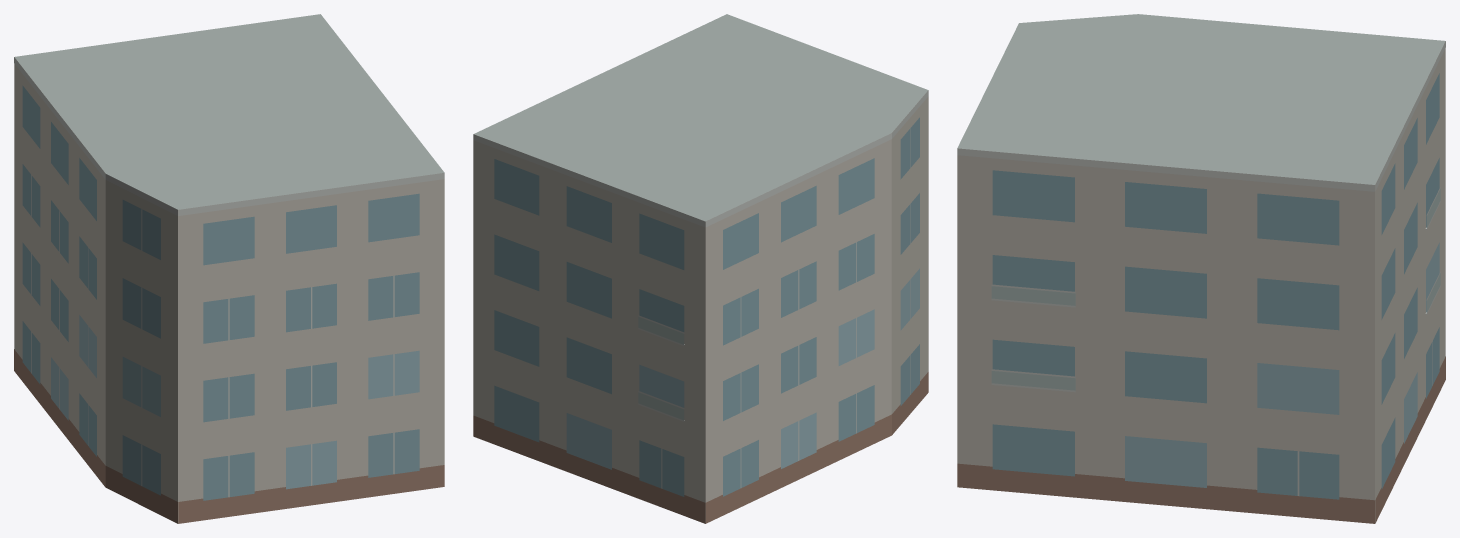
File: residential-4ddb8c55-ecb2-43ef-b6cc-3d99314cb1e6.glb
3 views of the same model, side by side, from view 1: azimuth 30°, elevation 25°; view 2: azimuth 150°, elevation 25°; view 3: azimuth 270°, elevation 25° (orthographic). The views are drawn at different scales.
Parts seen in each view (by area): view 1: residential-4ddb8c55-ecb2-43ef-b6cc-3d99314cb1e6.tmp; view 2: residential-4ddb8c55-ecb2-43ef-b6cc-3d99314cb1e6.tmp; view 3: residential-4ddb8c55-ecb2-43ef-b6cc-3d99314cb1e6.tmp.
Boxes of the visible parts, x1,y1,x2,y2 form: residential-4ddb8c55-ecb2-43ef-b6cc-3d99314cb1e6.tmp: (14,14,444,523); residential-4ddb8c55-ecb2-43ef-b6cc-3d99314cb1e6.tmp: (473,14,928,523); residential-4ddb8c55-ecb2-43ef-b6cc-3d99314cb1e6.tmp: (957,14,1445,523).
Size of the model in its own units: 13.22 by 12.2 by 15.95.
